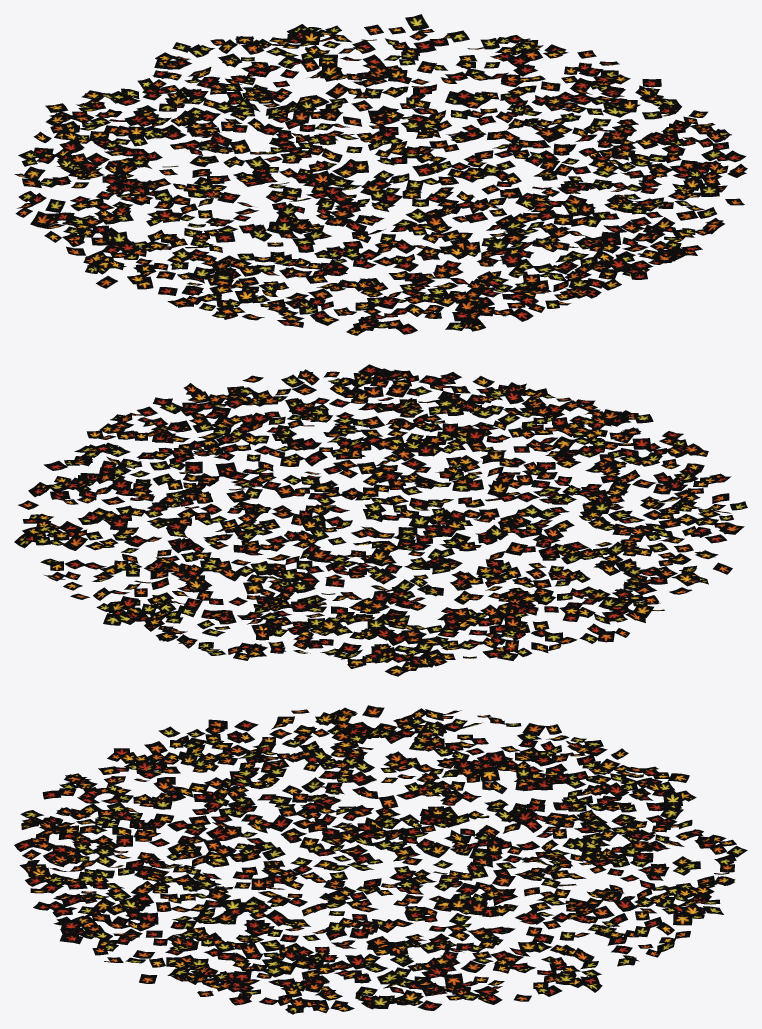
Rendered from Tree_FallenLeaves.fbx.
The picture shows the model from 3 angles, top to bottom: view 1: azimuth 30°, elevation 25°; view 2: azimuth 150°, elevation 25°; view 3: azimuth 270°, elevation 25°; orthographic projection.
Visible parts, largest first — view 1: Tree_FallenLeaves; view 2: Tree_FallenLeaves; view 3: Tree_FallenLeaves.
Part boxes in pixels (x1,y1,x2,y2): Tree_FallenLeaves: [14, 14, 747, 335]; Tree_FallenLeaves: [14, 364, 747, 676]; Tree_FallenLeaves: [14, 705, 747, 1014].
Size of the model in its own units: 5.69 by 0.1313 by 5.74.
